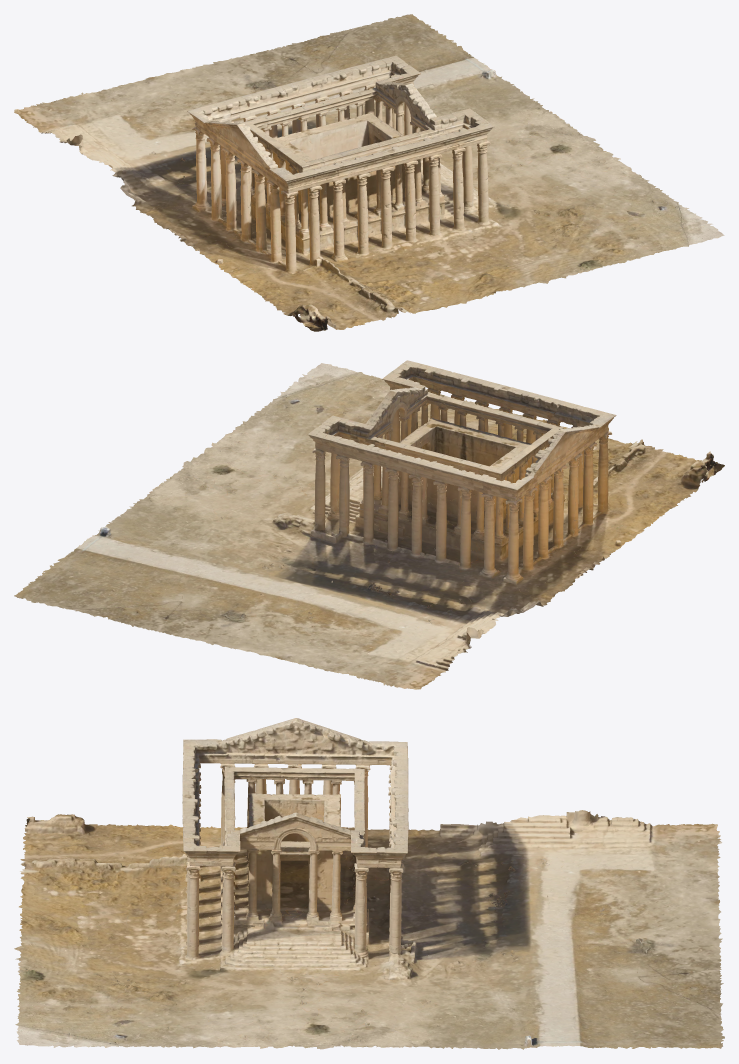
Rendered from greek_temple_scan.glb.
3 renders of one model, top to bottom at view 1: azimuth 30°, elevation 25°; view 2: azimuth 150°, elevation 25°; view 3: azimuth 270°, elevation 25°, orthographic. The views are drawn at different scales.
Visible parts, largest first — view 1: Object_4; view 2: Object_4; view 3: Object_4.
Boxes of the visible parts, x1=… form: Object_4: x1=14, y1=14, x2=724, y2=331; Object_4: x1=14, y1=360, x2=724, y2=689; Object_4: x1=14, y1=718, x2=724, y2=1049.
Size of the model in its own units: 40.36 by 11.13 by 53.1.
1 material, 1 textured.
